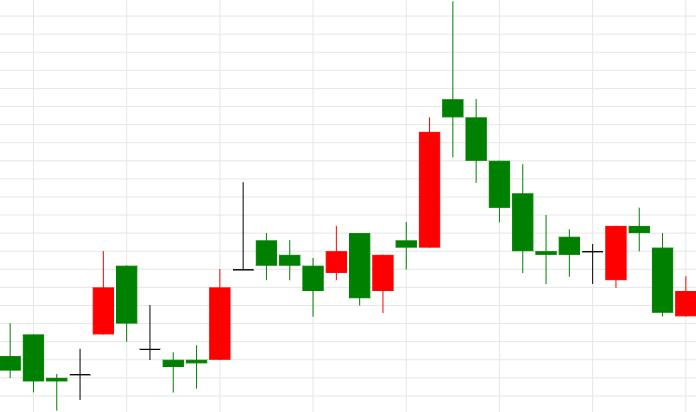evening_star_fall: (349, 1, 487, 313)
